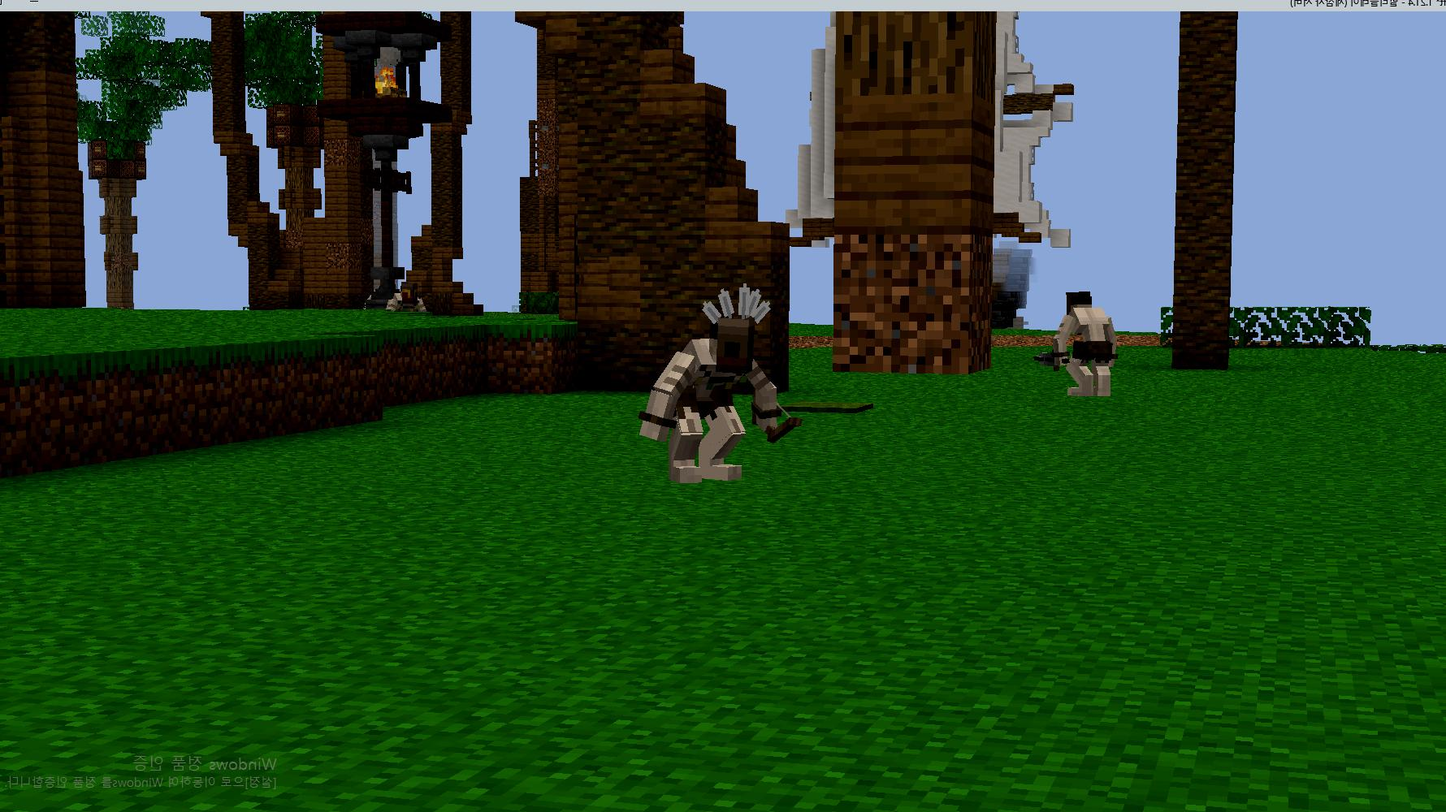bow_indian: (611, 263, 862, 495)
